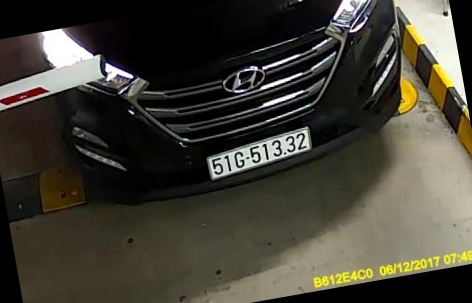plate: (197, 122, 320, 186)
